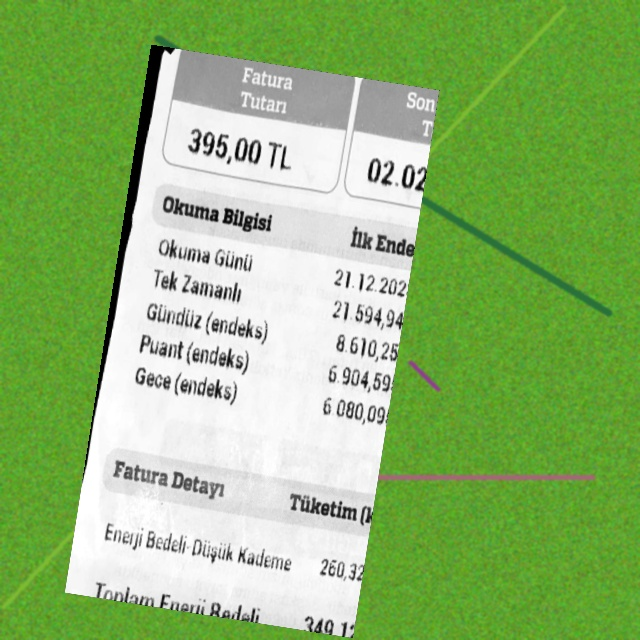electricity-bill: (64, 45, 440, 638)
